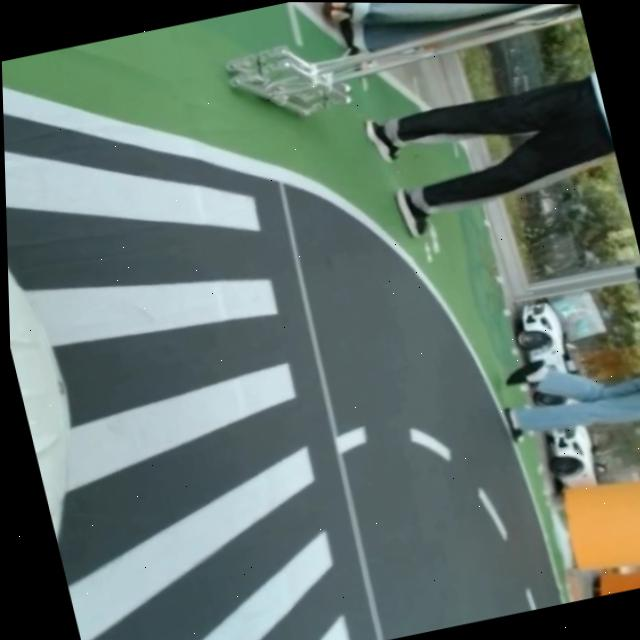traffic-light: (624, 257, 640, 519)
